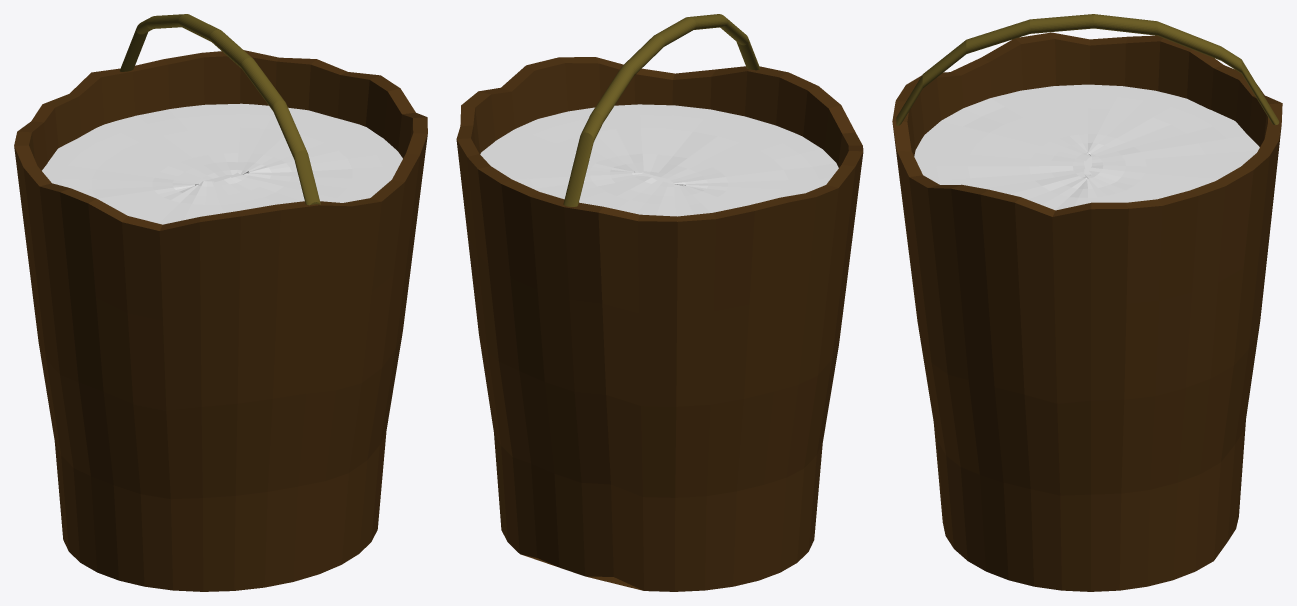
Rendered from full-bucket.fbx.
3 renders of one model, left to right at view 1: azimuth 30°, elevation 25°; view 2: azimuth 150°, elevation 25°; view 3: azimuth 270°, elevation 25°, orthographic. The views are drawn at different scales.
Visible parts, largest first — view 1: Cylinder, Cylinder.001; view 2: Cylinder, Cylinder.001; view 3: Cylinder, Cylinder.001.
Part boxes in pixels (x1,y1,x2,y2): Cylinder: [14, 50, 427, 591]; Cylinder.001: [119, 14, 320, 205]; Cylinder: [456, 57, 863, 591]; Cylinder.001: [563, 14, 760, 206]; Cylinder: [892, 32, 1282, 591]; Cylinder.001: [896, 14, 1279, 125].
Bounding box in the file's own units: 187 × 247 × 172.
